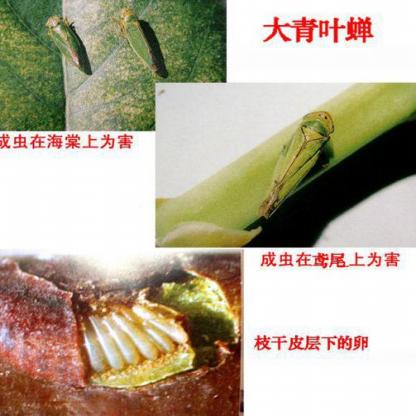Green-Leafhopper: (258, 104, 336, 232), (110, 4, 170, 76), (42, 11, 94, 77)
